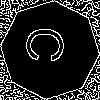C: (25, 25, 74, 65)
